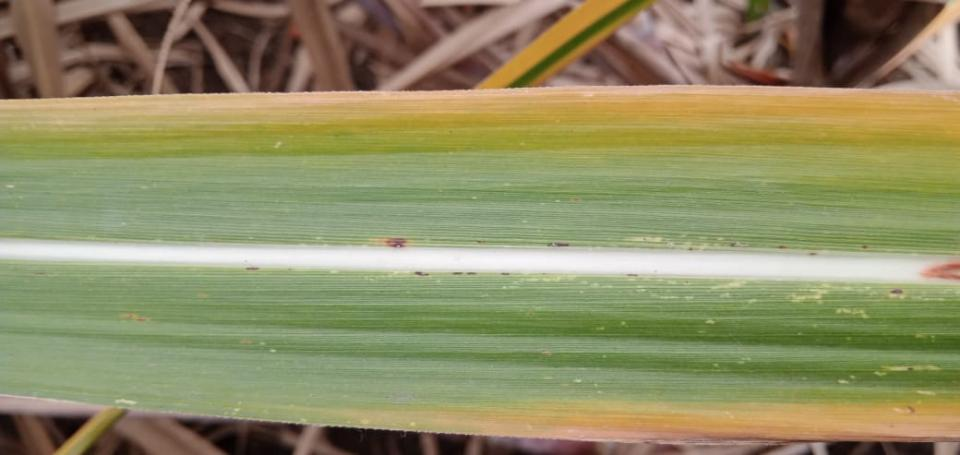RedRot: (922, 260, 959, 279)
Rust: (383, 237, 408, 248), (546, 241, 569, 248), (413, 270, 429, 277), (730, 241, 747, 247), (889, 288, 904, 294), (245, 266, 259, 271), (777, 245, 788, 250), (860, 244, 869, 250), (451, 271, 464, 275), (466, 271, 478, 275), (627, 273, 638, 277), (808, 252, 819, 256), (500, 272, 510, 276), (688, 247, 693, 251)
Yellow: (0, 88, 959, 202), (269, 394, 959, 441)
